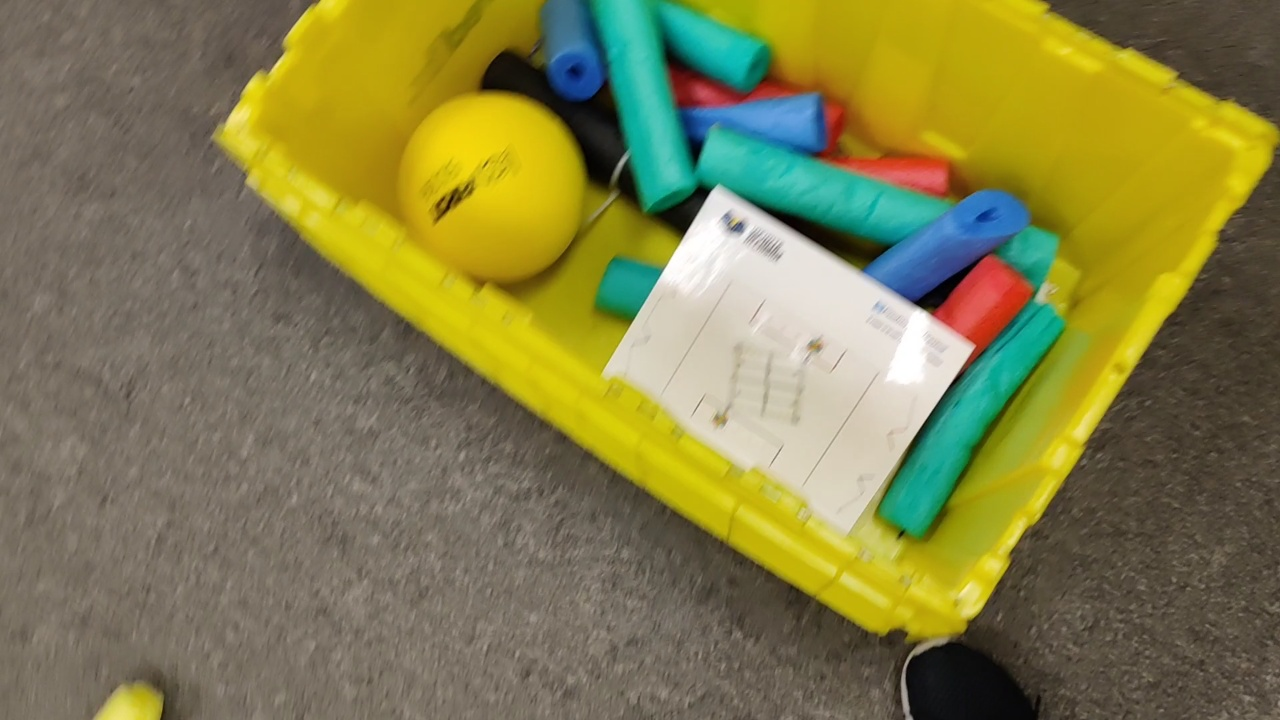Ball: (396, 93, 582, 288)
